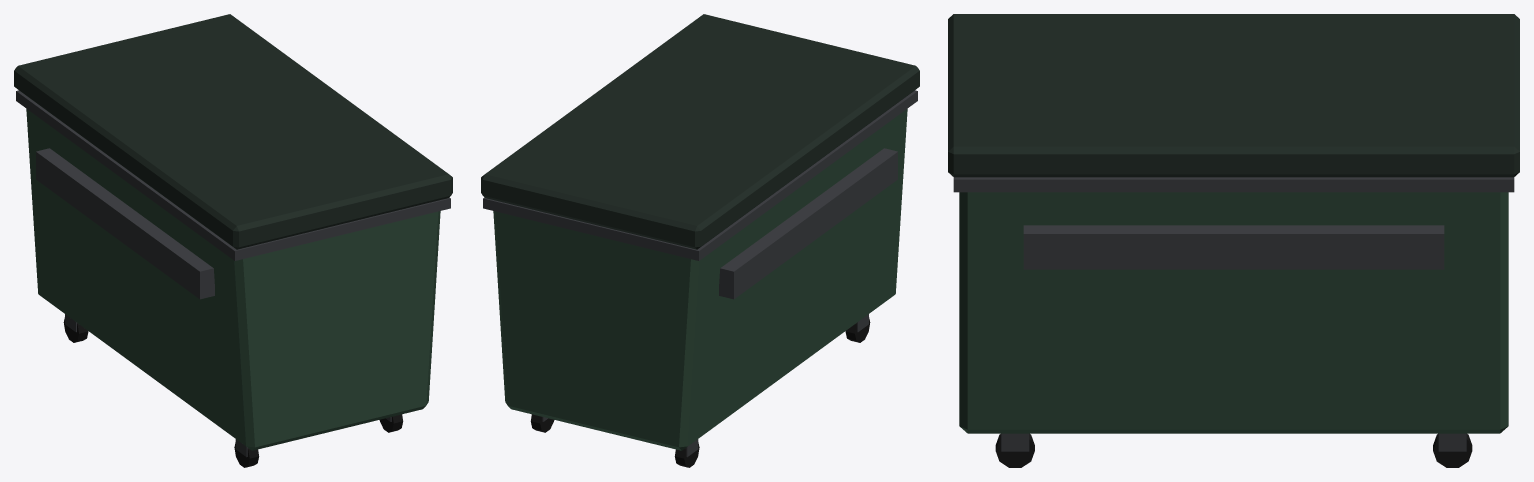
The model's file is dumpster.glb.
3 renders of one model, left to right at view 1: azimuth 30°, elevation 25°; view 2: azimuth 150°, elevation 25°; view 3: azimuth 270°, elevation 25°, orthographic. The views are drawn at different scales.
Parts seen in each view (by area): view 1: dumpster; view 2: dumpster; view 3: dumpster.
Boxes of the visible parts, x1,y1,x2,y2 form: dumpster: (14,14,452,467); dumpster: (481,14,919,467); dumpster: (948,14,1519,467).
Bounding box in the file's own units: 1.22 × 1.34 × 2.04.
